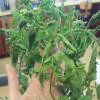Tomato leaf mosaic virus: (56, 32, 76, 52), (41, 37, 54, 66), (49, 64, 63, 78), (32, 34, 41, 55), (85, 36, 93, 49), (58, 10, 68, 19)
